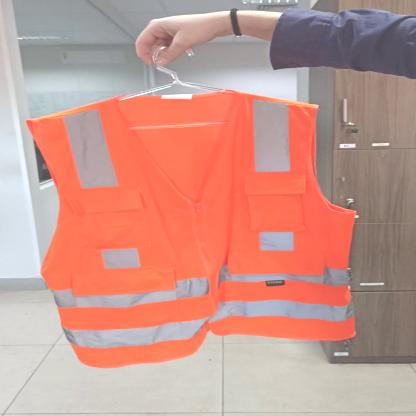colete: (18, 88, 366, 370)
